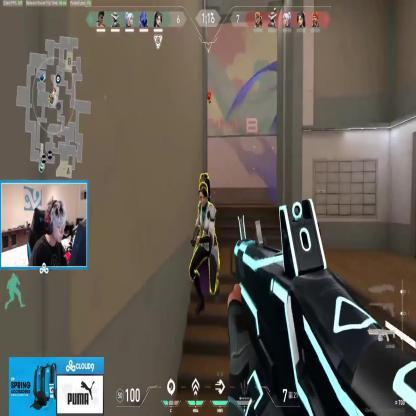enemy: (186, 174, 221, 316)
enemy_head: (198, 182, 208, 208)
